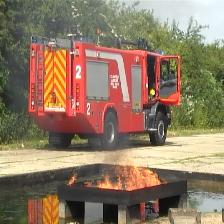fire: (64, 165, 172, 195)
